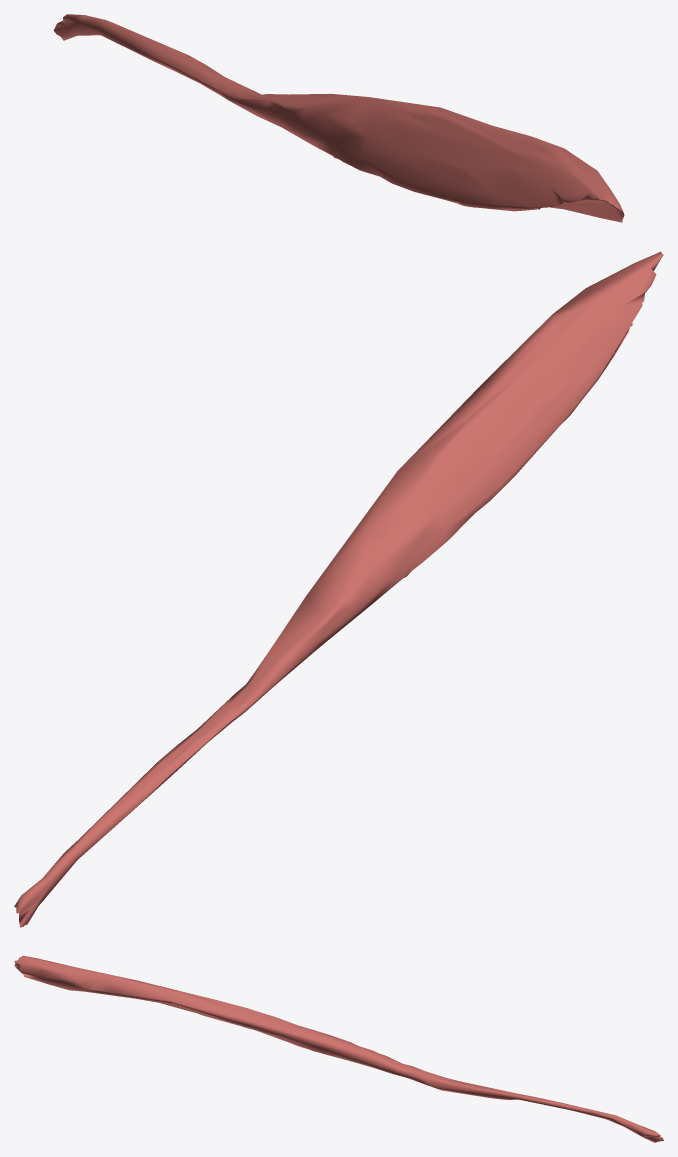
3 views of the same model, one above another, from view 1: azimuth 30°, elevation 25°; view 2: azimuth 150°, elevation 25°; view 3: azimuth 270°, elevation 25° (orthographic). The views are drawn at different scales.
Visible parts, largest first — view 1: 左侧尺侧腕伸肌尺头; view 2: 左侧尺侧腕伸肌尺头; view 3: 左侧尺侧腕伸肌尺头.
Part boxes in pixels (x1,y1,x2,y2): 左侧尺侧腕伸肌尺头: (53,14,624,222); 左侧尺侧腕伸肌尺头: (14,251,663,927); 左侧尺侧腕伸肌尺头: (14,956,663,1142).
Bounding box in the file's own units: 0.034 × 0.084 × 0.3019.
